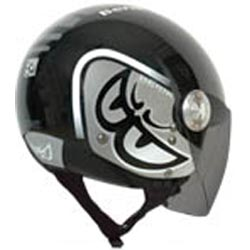helmet: (20, 7, 235, 215)
